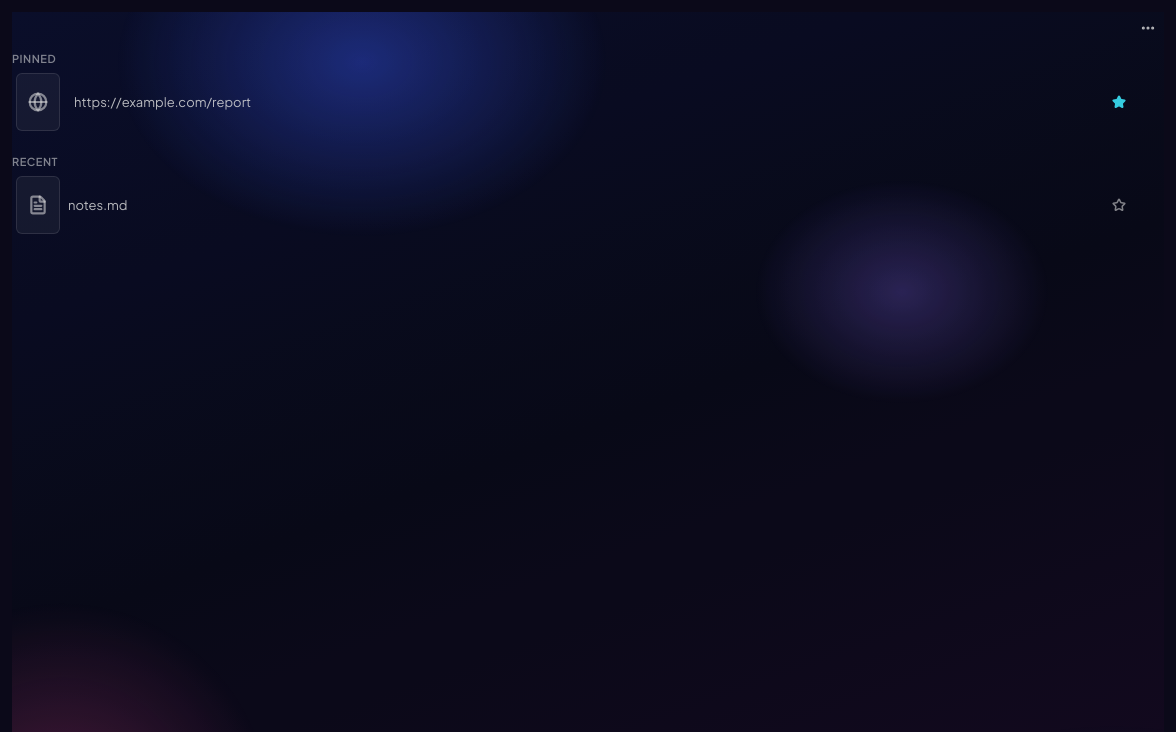
FilesWidget › pins, removes and clears recent while keeping pins
Earlier steps of the test are not shown.
Step 1. Click the button named "Files actions" → x=1148, y=28, box top-left (1132, 12), bottom-right (1164, 44)
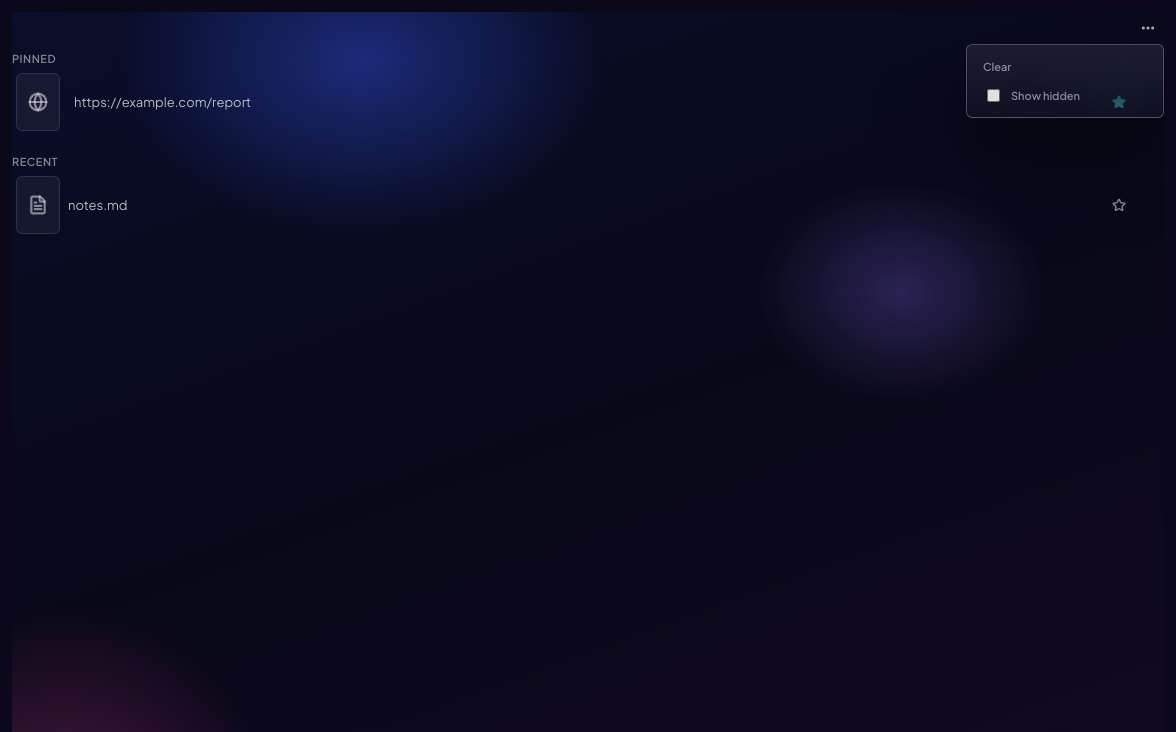
Step 2. Click the button "Clear" → x=1065, y=66, box top-left (975, 53), bottom-right (1155, 78)
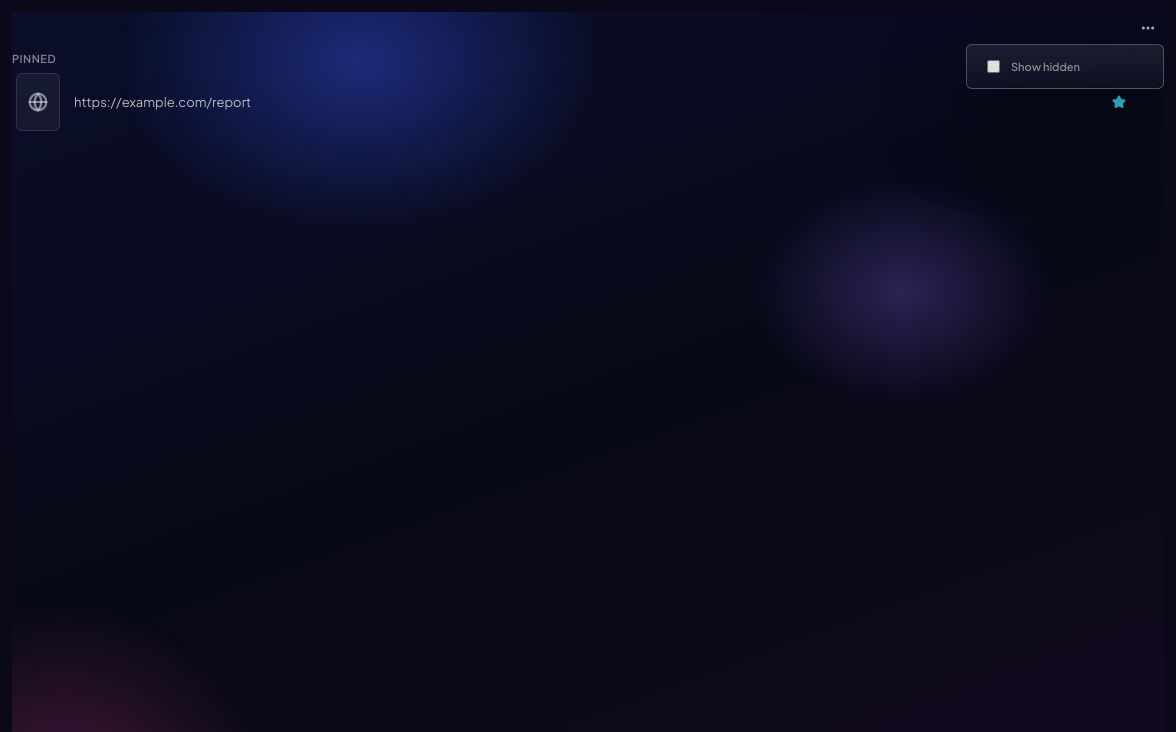
Expected: the text "https://example.com/report" is shown, top-left (74, 94), bottom-right (251, 110)
Now the text "notes.md" is gone
